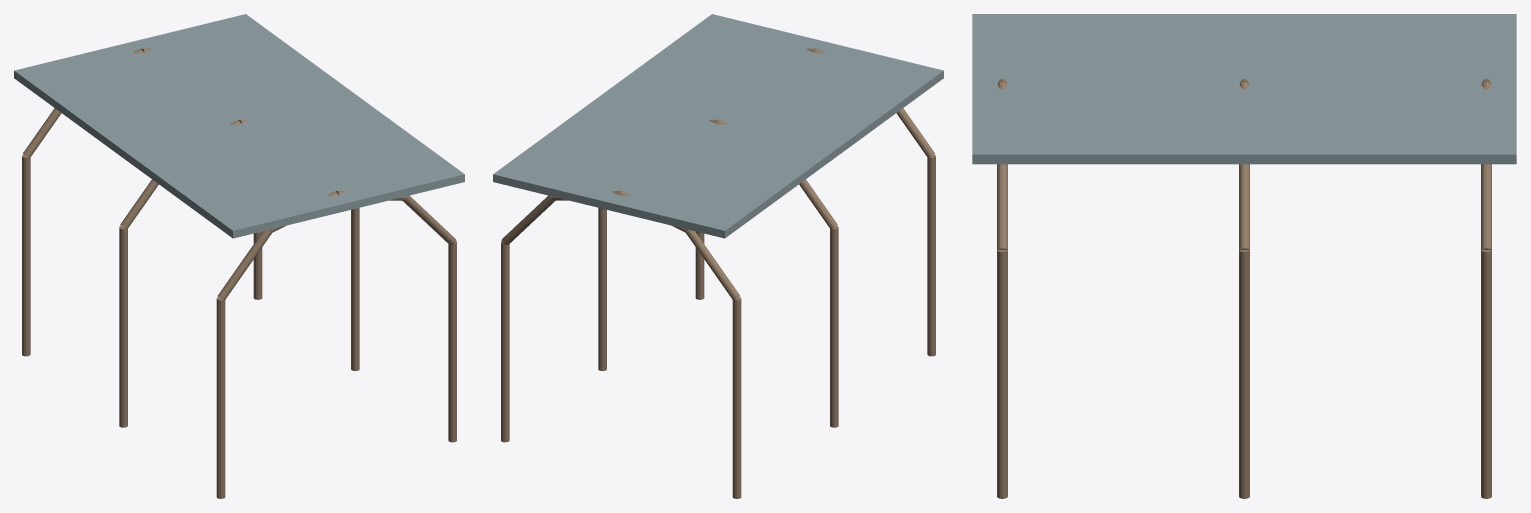
File: VH-CANOPY.glb
The picture shows the model from 3 angles, left to right: view 1: azimuth 30°, elevation 25°; view 2: azimuth 150°, elevation 25°; view 3: azimuth 270°, elevation 25°; orthographic projection. The views are drawn at different scales.
Parts seen in each view (by area): view 1: canvas_roof, canopy_arch (×10); view 2: canvas_roof, canopy_arch (×10); view 3: canvas_roof, canopy_arch (×6).
Part boxes in pixels (x1,y1,x2,y2): canvas_roof: [14, 14, 464, 238]; canopy_arch (×10): [22, 108, 456, 498]; canvas_roof: [493, 14, 943, 238]; canopy_arch (×10): [501, 108, 935, 498]; canvas_roof: [972, 14, 1516, 164]; canopy_arch (×6): [997, 164, 1491, 498].
Size of the model in its own units: 1.14 by 1.26 by 1.8.
